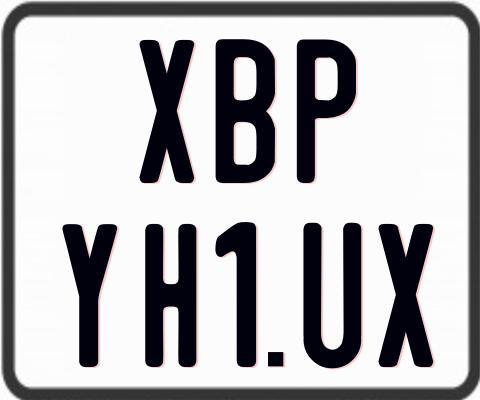1: (215, 219, 260, 367)
B: (214, 36, 274, 183)
H: (145, 224, 202, 367)
P: (294, 39, 356, 189)
U: (301, 223, 363, 373)
X: (140, 38, 199, 186), (378, 222, 434, 369)
Y: (61, 224, 117, 367)
